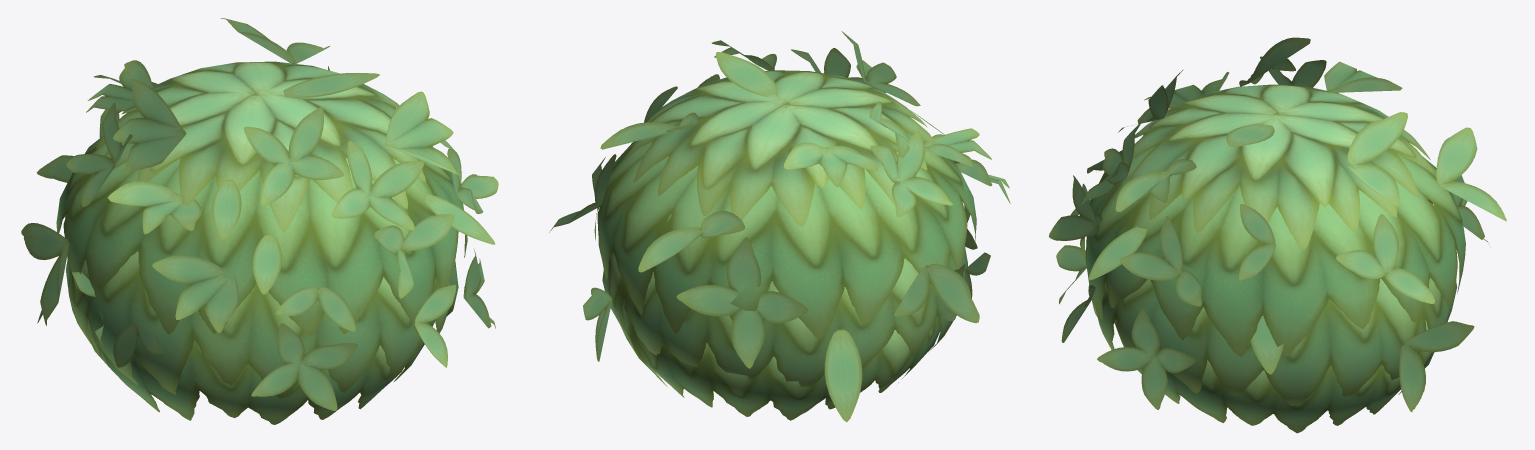
File: SM_BushFull_UnityExport.fbx
3 views of the same model, side by side, from view 1: azimuth 30°, elevation 25°; view 2: azimuth 150°, elevation 25°; view 3: azimuth 270°, elevation 25° (orthographic). The views are drawn at different scales.
Visible parts, largest first — view 1: SM_BasicBush; view 2: SM_BasicBush; view 3: SM_BasicBush.
Part boxes in pixels (x1,y1,x2,y2): SM_BasicBush: (21,18,498,424); SM_BasicBush: (549,31,1010,422); SM_BasicBush: (1049,37,1506,433).
Size of the model in its own units: 44.64 by 36.02 by 46.77.
